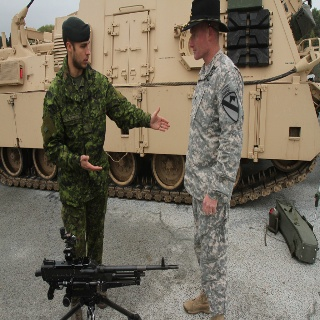rifle: (33, 228, 180, 320)
